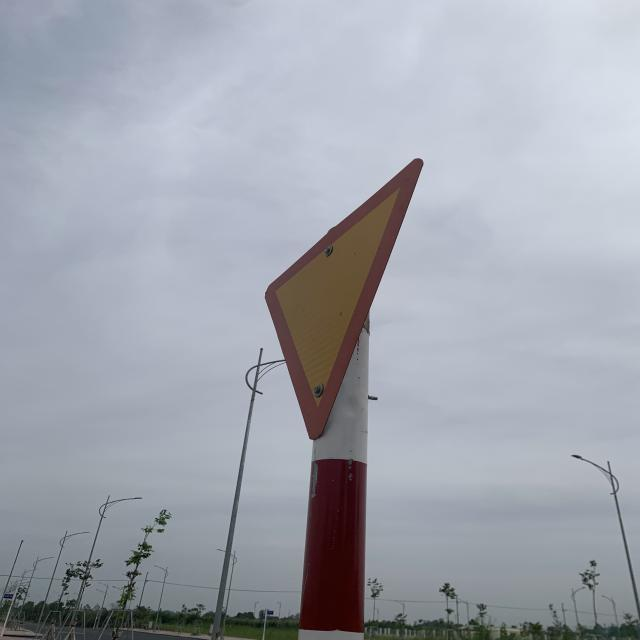Gioi_Han_Toc_Do_25: (264, 157, 430, 440)
